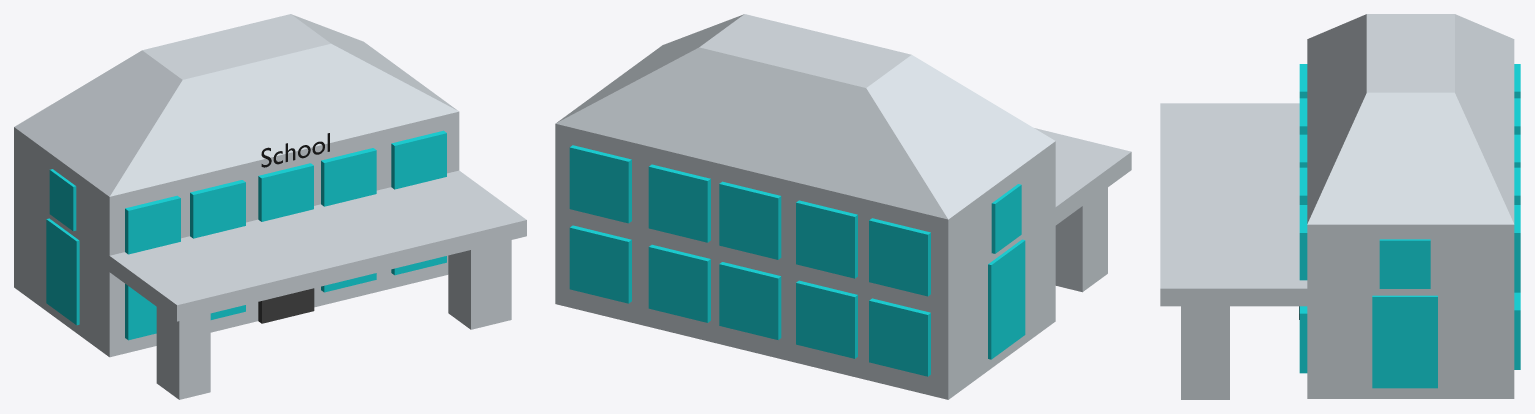
Rendered from School.fbx.
3 renders of one model, left to right at view 1: azimuth 30°, elevation 25°; view 2: azimuth 150°, elevation 25°; view 3: azimuth 270°, elevation 25°, orthographic. The views are drawn at different scales.
Visible parts, largest first — view 1: Cube, Cube.008, Cube.004, Cube.001, Cube.002, Cube.005, Cube.003, Cube.011, Cube.024, Cube.009, School; view 2: Cube, Cube.017, Cube.018, Cube.022, Cube.023, Cube.014, Cube.019, Cube.016, Cube.015, Cube.021, Cube.020, Cube.008 (+1 smaller); view 3: Cube, Cube.006, Cube.007, Cube.005, Cube.018, Cube.013, Cube.023, Cube.004, Cube.002.
Boxes of the visible parts, x1,y1,x2,y2 form: Cube: [14, 14, 526, 399]; Cube.008: [46, 218, 79, 325]; Cube.004: [321, 148, 376, 206]; Cube.001: [258, 163, 313, 221]; Cube.002: [190, 180, 245, 238]; Cube.005: [391, 130, 446, 189]; Cube.003: [125, 195, 180, 254]; Cube.011: [125, 284, 156, 340]; Cube.024: [258, 288, 314, 323]; Cube.009: [49, 169, 76, 231]; School: [261, 133, 329, 167]; Cube: [555, 14, 1131, 399]; Cube.017: [648, 164, 710, 242]; Cube.018: [569, 145, 631, 223]; Cube.022: [648, 244, 710, 322]; Cube.023: [569, 225, 631, 303]; Cube.014: [719, 181, 781, 259]; Cube.019: [719, 262, 781, 339]; Cube.016: [869, 218, 930, 296]; Cube.015: [796, 200, 857, 278]; Cube.021: [869, 298, 930, 376]; Cube.020: [796, 280, 857, 358]; Cube.008: [988, 239, 1025, 359]; Cube: [1160, 14, 1514, 399]; Cube.006: [1372, 295, 1437, 388]; Cube.007: [1379, 239, 1430, 288]; Cube.005: [1299, 205, 1307, 280]; Cube.018: [1514, 205, 1520, 292]; Cube.013: [1299, 306, 1307, 373]; Cube.023: [1514, 292, 1520, 369]; Cube.004: [1299, 167, 1307, 204]; Cube.002: [1299, 98, 1307, 134].
Size of the model in its own units: 1353 by 862 by 1095.
